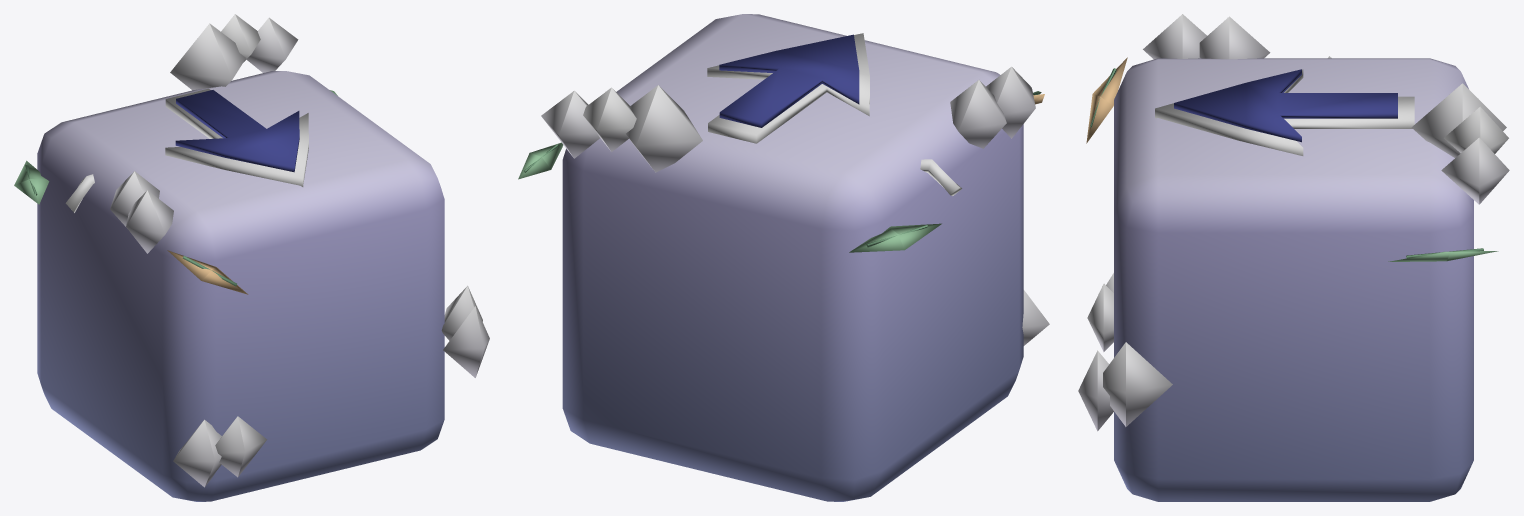
File: hava_lo.glb
3 renders of one model, left to right at view 1: azimuth 30°, elevation 25°; view 2: azimuth 150°, elevation 25°; view 3: azimuth 270°, elevation 25°, orthographic. The views are drawn at different scales.
Parts seen in each view (by area): view 1: hava_lo; view 2: hava_lo; view 3: hava_lo.
Boxes of the visible parts, left/top/right/bottom form: hava_lo: left=14, top=14, right=489, bottom=501; hava_lo: left=518, top=14, right=1049, bottom=501; hava_lo: left=1078, top=14, right=1509, bottom=501.
Bounding box in the file's own units: 1.08 × 1.06 × 1.08.
